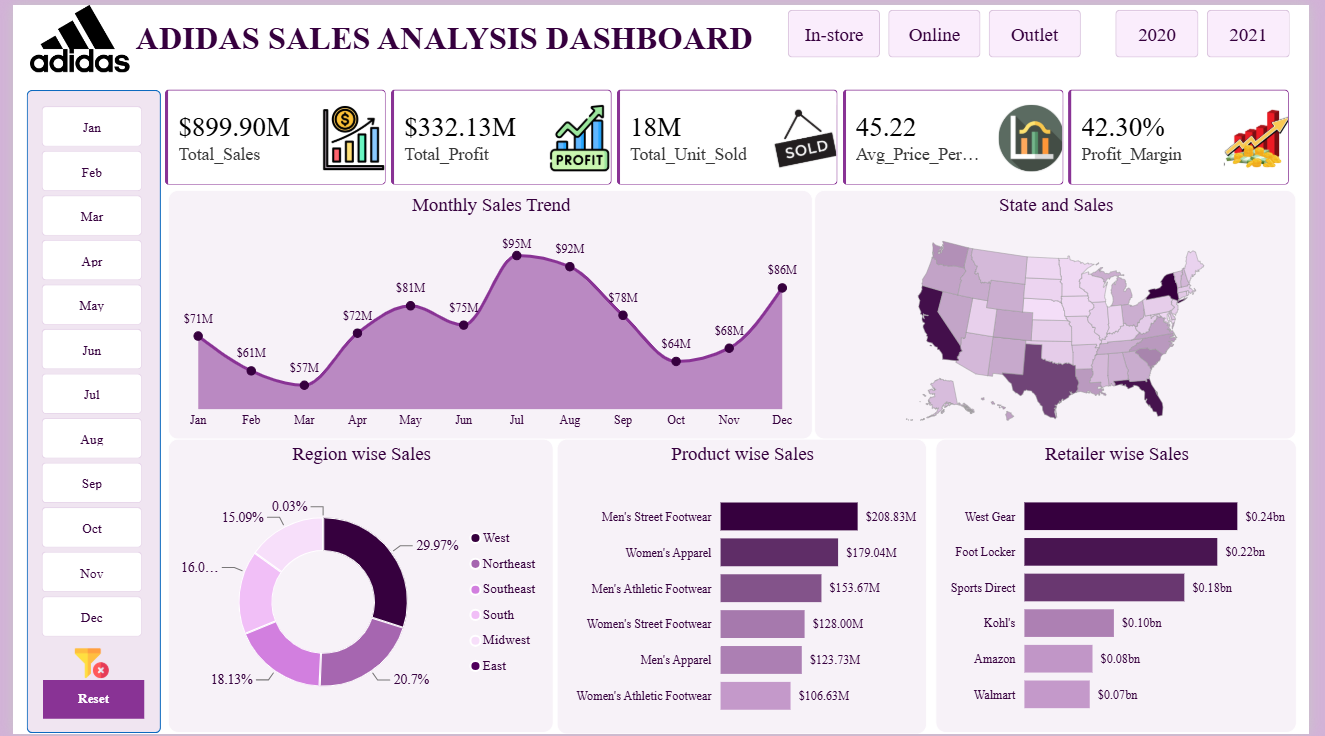

The dashboard page shown, as its layout file describes it:
{"tool":"powerbi","page":{"name":"Page 1","canvas":[1280,720],"ordinal":0},"visuals":[{"type":"cardVisual","fields":{"Data":["Adidas_Sales_Data.Total_Sales","Adidas_Sales_Data.Total_Profit","Adidas_Sales_Data.Total_Unit_Sold","Adidas_Sales_Data.Avg_Price_Per_Unit","Adidas_Sales_Data.Profit_Margin"]},"box":[133.3,66.7,1146.4,128.6],"z":0},{"type":"image","box":[0,0,132.5,66.2],"z":1000},{"type":"textbox","box":[115.6,9.1,641.6,48.1],"z":2000},{"type":"shape","box":[13,84.4,132.5,635.1],"z":3000},{"type":"areaChart","title":"Monthly Sales Trend","fields":{"Y":["Adidas_Sales_Data.Total_Sales"],"Category":["Adidas_Sales_Data.Month"]},"box":[153.6,182.1,636.9,246.4],"z":4000},{"type":"shapeMap","title":"State and Sales","fields":{"Category":["Adidas_Sales_Data.State"],"Value":["Adidas_Sales_Data.Total_Sales"]},"box":[791.7,182.1,476.2,246.4],"z":5000},{"type":"donutChart","title":"Region wise Sales","fields":{"Category":["Adidas_Sales_Data.Region"],"Y":["Adidas_Sales_Data.Total_Sales"]},"box":[153.6,428.6,381,290.5],"z":6000},{"type":"clusteredBarChart","title":"Product wise Sales","fields":{"Y":["Adidas_Sales_Data.Total_Sales"],"Category":["Adidas_Sales_Data.Product"]},"box":[536.9,428.6,365.5,291.7],"z":7000},{"type":"clusteredBarChart","title":"Retailer wise Sales","fields":{"Y":["Adidas_Sales_Data.Total_Sales"],"Category":["Adidas_Sales_Data.Retailer"]},"box":[910.7,428.6,357.1,290.5],"z":8000},{"type":"advancedSlicerVisual","fields":{"Values":["Adidas_Sales_Data.Invoice Date.Variation.Date Hierarchy.Year"]},"box":[1084.5,0,183.3,57.1],"z":9000},{"type":"advancedSlicerVisual","fields":{"Values":["Adidas_Sales_Data.Month"]},"box":[23.4,94.8,109.1,539],"z":10000},{"type":"image","box":[23.4,633.8,109.1,33.8],"z":11000},{"type":"actionButton","box":[29.8,666.7,100,38.1],"z":12000},{"type":"advancedSlicerVisual","fields":{"Values":["Adidas_Sales_Data.Sales Method"]},"box":[760.7,0,300,57.1],"z":13000}]}

Visuals, with their boxes in screenshot pixels (x1, y1, x2, y2), scaled from the page's 1280x720 canvas onto the 1325x736 screenshot:
cardVisual - Adidas_Sales_Data.Total_Sales x Adidas_Sales_Data.Total_Profit: 138/68/1324/200
image: 0/0/137/68
textbox: 120/9/784/58
shape: 13/86/151/735
"Monthly Sales Trend" areaChart: 159/186/818/438
"State and Sales" shapeMap: 820/186/1312/438
"Region wise Sales" donutChart: 159/438/553/735
"Product wise Sales" clusteredBarChart: 556/438/934/735
"Retailer wise Sales" clusteredBarChart: 943/438/1312/735
advancedSlicerVisual - Adidas_Sales_Data.Invoice Date.Variation.Date Hierarchy.Year: 1123/0/1312/58
advancedSlicerVisual - Adidas_Sales_Data.Month: 24/97/137/648
image: 24/648/137/682
actionButton: 31/682/134/720
advancedSlicerVisual - Adidas_Sales_Data.Sales Method: 787/0/1098/58
